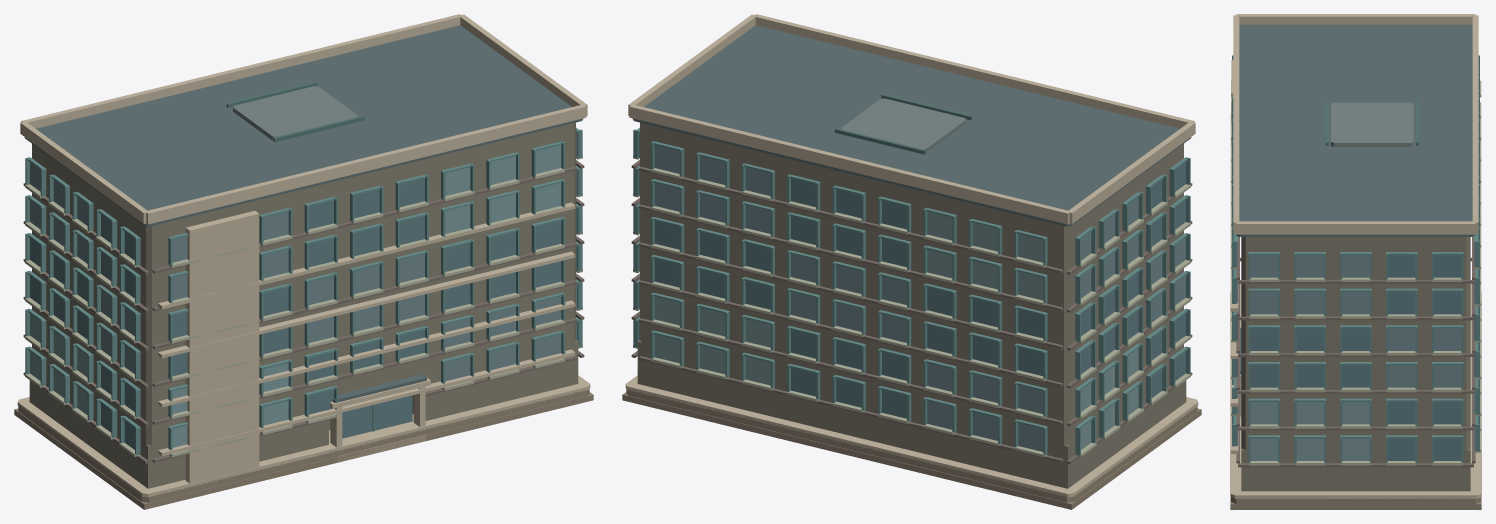
3 renders of one model, left to right at view 1: azimuth 30°, elevation 25°; view 2: azimuth 150°, elevation 25°; view 3: azimuth 270°, elevation 25°, orthographic. The views are drawn at different scales.
Parts seen in each view (by area): view 1: form, relief, glaze, glowing; view 2: form, relief, glaze, glowing; view 3: form, glaze, relief, glowing.
Part boxes in pixels (x1,y1,x2,y2): form: (14,14,593,509); relief: (25,127,582,457); glaze: (30,133,577,452); glowing: (53,179,470,353); form: (622,14,1201,509); relief: (633,127,1190,457); glaze: (638,133,1185,452); glowing: (700,156,1138,391); form: (1230,14,1481,509); glaze: (1236,236,1475,460); relief: (1231,55,1481,465); glowing: (1296,255,1369,387).
Size of the model in its own units: 24 by 15 by 12.
